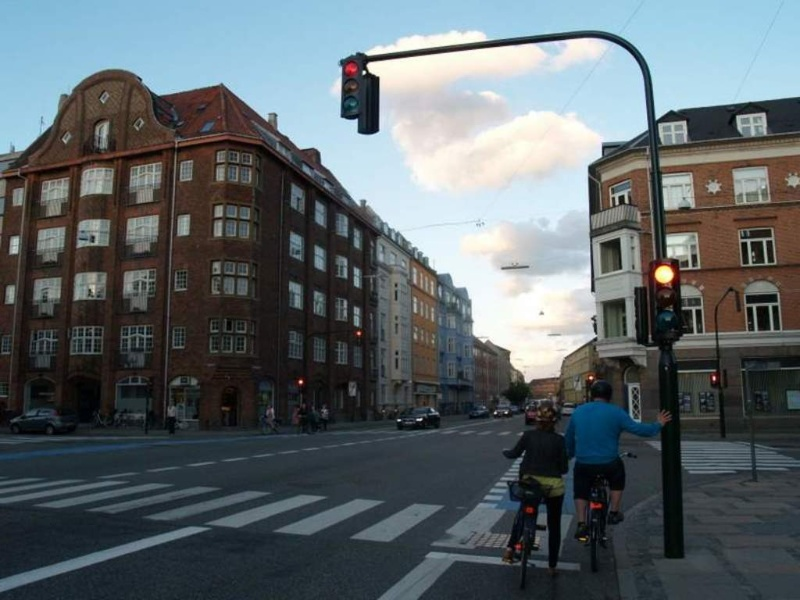red_light: (328, 54, 401, 115)
